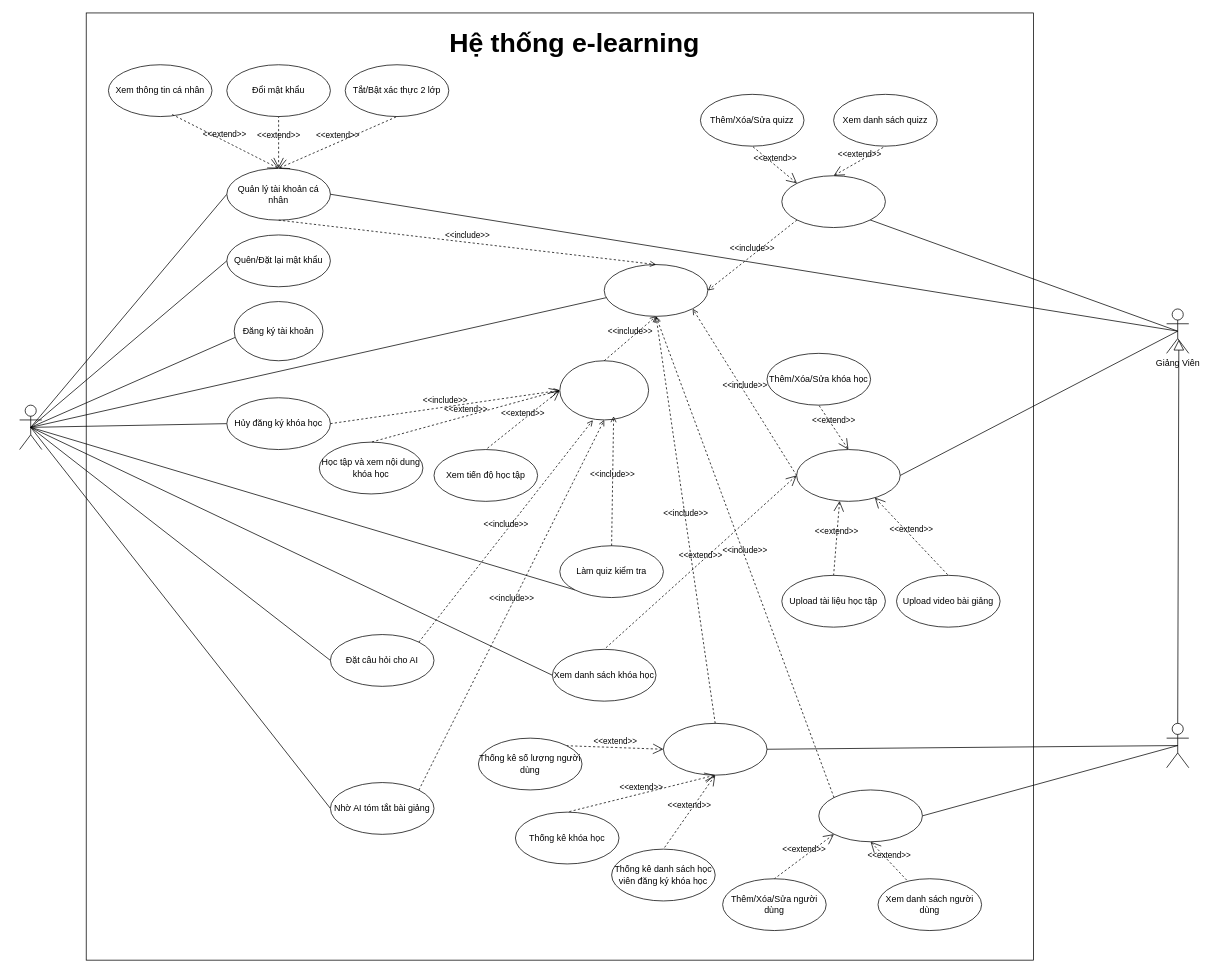
This 1212x973 diagram has some shape labels left out. Here are the shapes that lost their labels. From the top down, the centre of each, then its label:
[833,201]: Quản lý Quizz
[655,290]: Đăng nhập
[604,390]: Đăng ký khóa học
[30,427]: Học Viên
[848,475]: Quản lý khóa học
[715,749]: Thống kê
[1177,745]: ActorName
[870,815]: Quản lý người dùng
